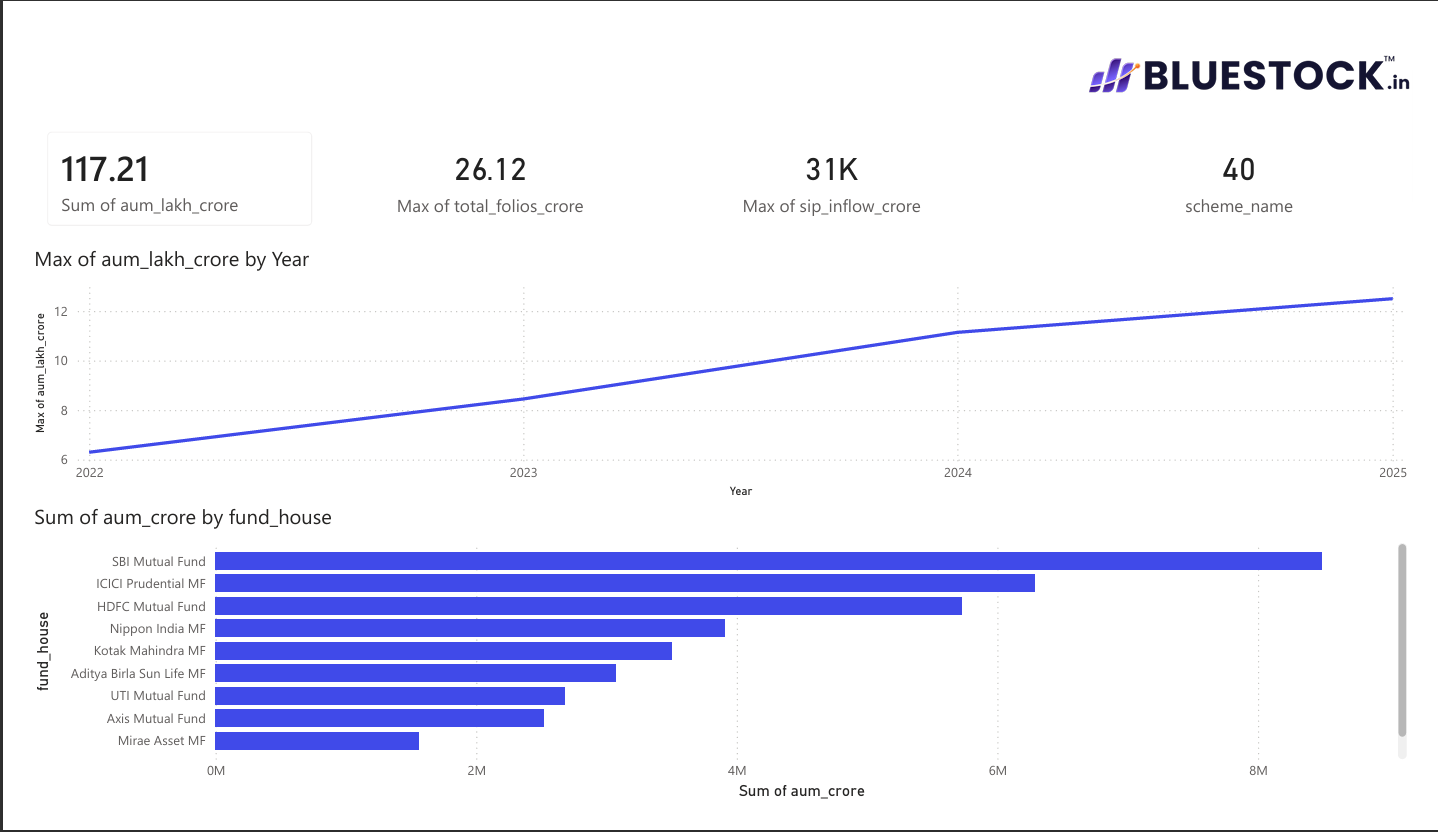

The page's visual inventory and layout, read from the dashboard file:
{"tool":"powerbi","page":{"name":"Page 1","canvas":[1280,720],"ordinal":0},"visuals":[{"type":"cardVisual","fields":{"Data":["Sum(aum_by_fund_house_clean.aum_lakh_crore)"]},"box":[0,80,278.6,121.4],"z":0},{"type":"card","fields":{"Values":["Max(monthly_sip_inflows_clean.sip_inflow_crore)"]},"box":[608.6,80,268.6,121.4],"z":1000},{"type":"card","fields":{"Values":["Max(industry_folio_count_clean.total_folios_crore)"]},"box":[297.1,80,260,121.4],"z":2000},{"type":"card","fields":{"Values":["Count(fund_master_clean.scheme_name)"]},"box":[960,80,320,121.4],"z":3000},{"type":"lineChart","fields":{"Category":["aum_by_fund_house_clean.date.Variation.Date Hierarchy.Year"],"Y":["Max(aum_by_fund_house_clean.aum_lakh_crore)"]},"box":[0,201.4,1280,238.6],"z":4000},{"type":"clusteredBarChart","fields":{"Category":["aum_by_fund_house_clean.fund_house"],"Y":["Sum(aum_by_fund_house_clean.aum_crore)"]},"box":[0,440,1280,280],"z":5000},{"type":"image","box":[980,7.1,300,72.9],"z":6000}]}

Visuals, with their boxes in screenshot pixels (x1, y1, x2, y2), scaled from the page's 1280x720 canvas onto the 1438x832 screenshot:
cardVisual - Sum(aum_by_fund_house_clean.aum_lakh_crore): {"x1": 0, "y1": 92, "x2": 313, "y2": 233}
card - Max(monthly_sip_inflows_clean.sip_inflow_crore): {"x1": 684, "y1": 92, "x2": 985, "y2": 233}
card - Max(industry_folio_count_clean.total_folios_crore): {"x1": 334, "y1": 92, "x2": 626, "y2": 233}
card - Count(fund_master_clean.scheme_name): {"x1": 1078, "y1": 92, "x2": 1437, "y2": 233}
lineChart - aum_by_fund_house_clean.date.Variation.Date Hierarchy.Year x Max(aum_by_fund_house_clean.aum_lakh_crore): {"x1": 0, "y1": 233, "x2": 1437, "y2": 508}
clusteredBarChart - aum_by_fund_house_clean.fund_house x Sum(aum_by_fund_house_clean.aum_crore): {"x1": 0, "y1": 508, "x2": 1437, "y2": 831}
image: {"x1": 1101, "y1": 8, "x2": 1437, "y2": 92}
